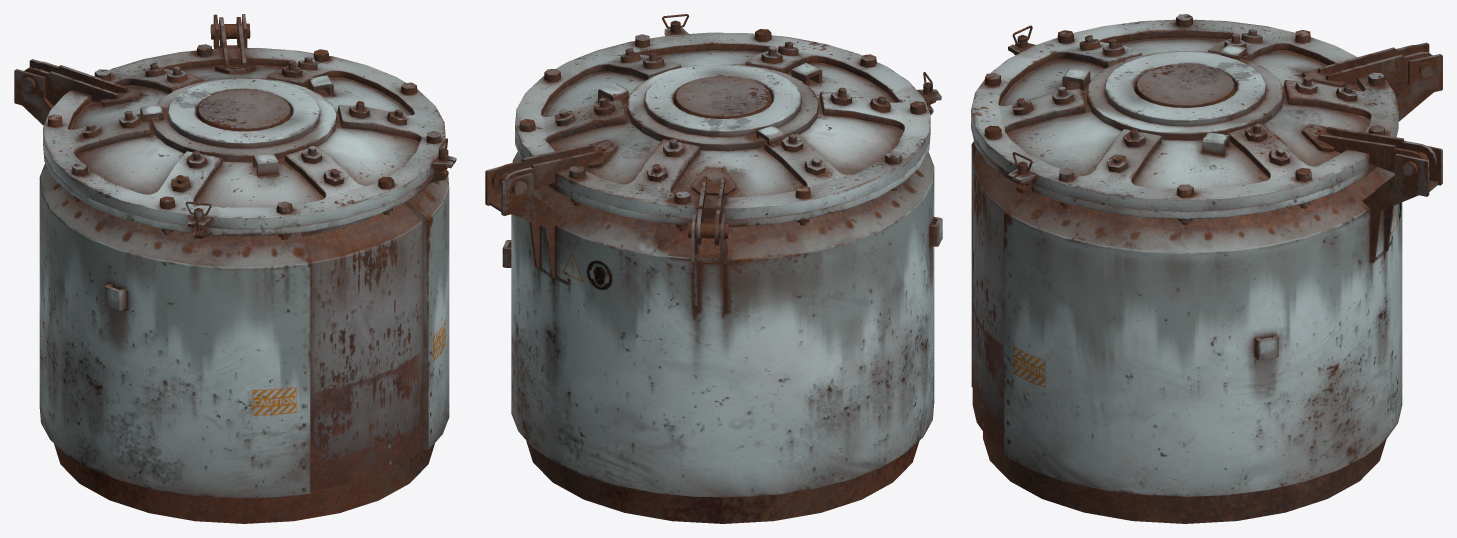
File: Machine2.glb
The picture shows the model from 3 angles, left to right: view 1: azimuth 30°, elevation 25°; view 2: azimuth 150°, elevation 25°; view 3: azimuth 270°, elevation 25°; orthographic projection. The views are drawn at different scales.
Visible parts, largest first — view 1: Base_LP, Rim_LP, Rim_2_LP, Hinge_2_LP, Bolts_2_LP, Bolts_LP, Hinge_1_LP, Cube; view 2: Base_LP, Rim_LP, Rim_2_LP, Hinge_2_LP, Hinge_1_LP, Bolts_2_LP, Bolts_LP, Cube; view 3: Base_LP, Rim_LP, Rim_2_LP, Hinge_2_LP, Hinge_1_LP, Bolts_2_LP, Bolts_LP, Cube.
Part boxes in pixels (<box>): Base_LP: <box>39,139,449,523</box>; Rim_LP: <box>69,64,419,207</box>; Rim_2_LP: <box>43,47,445,228</box>; Hinge_2_LP: <box>21,17,256,106</box>; Bolts_2_LP: <box>81,56,407,192</box>; Bolts_LP: <box>48,44,440,240</box>; Hinge_1_LP: <box>14,14,247,125</box>; Cube: <box>105,75,333,310</box>; Base_LP: <box>511,128,934,523</box>; Rim_LP: <box>542,50,903,197</box>; Rim_2_LP: <box>515,32,930,219</box>; Hinge_2_LP: <box>491,140,735,245</box>; Hinge_1_LP: <box>485,166,727,313</box>; Bolts_2_LP: <box>554,41,890,181</box>; Bolts_LP: <box>519,29,926,231</box>; Cube: <box>502,63,942,267</box>; Base_LP: <box>971,122,1402,523</box>; Rim_LP: <box>999,37,1369,188</box>; Rim_2_LP: <box>971,19,1398,211</box>; Hinge_2_LP: <box>1301,45,1436,177</box>; Hinge_1_LP: <box>1362,42,1442,262</box>; Bolts_2_LP: <box>1012,28,1357,172</box>; Bolts_LP: <box>984,14,1385,225</box>; Cube: <box>1062,44,1278,360</box>.
Size of the model in its own units: 79.74 by 72.2 by 86.5.
Materials: 1 (1 with a texture image).
